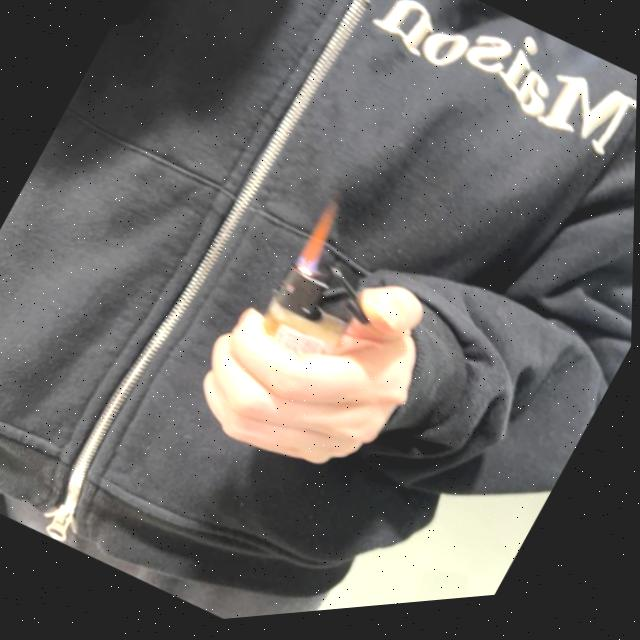Fire: (290, 203, 352, 281)
